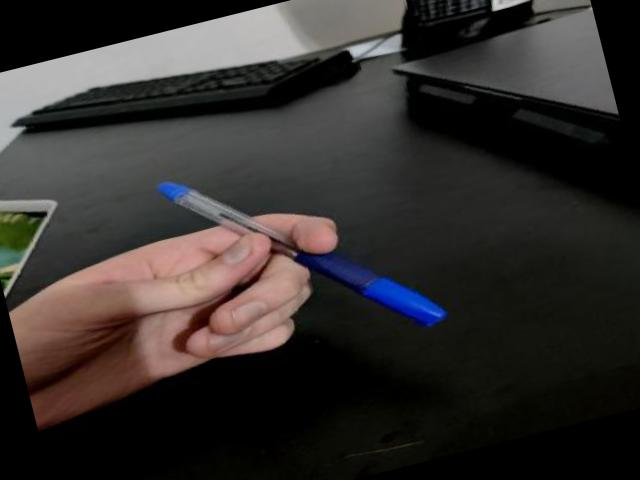PEN: (149, 166, 454, 338)
